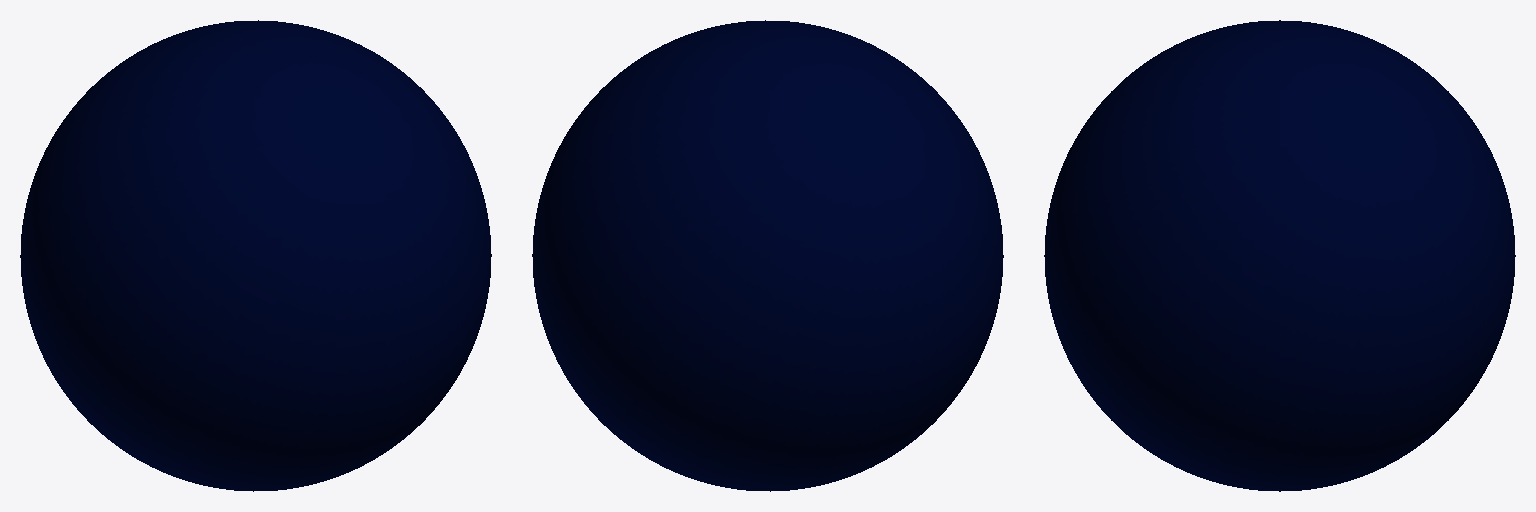
Rendered from core.obj.
3 views of the same model, side by side, from view 1: azimuth 30°, elevation 25°; view 2: azimuth 150°, elevation 25°; view 3: azimuth 270°, elevation 25° (orthographic).
Size of the model in its own units: 1.29 by 1.29 by 1.29.